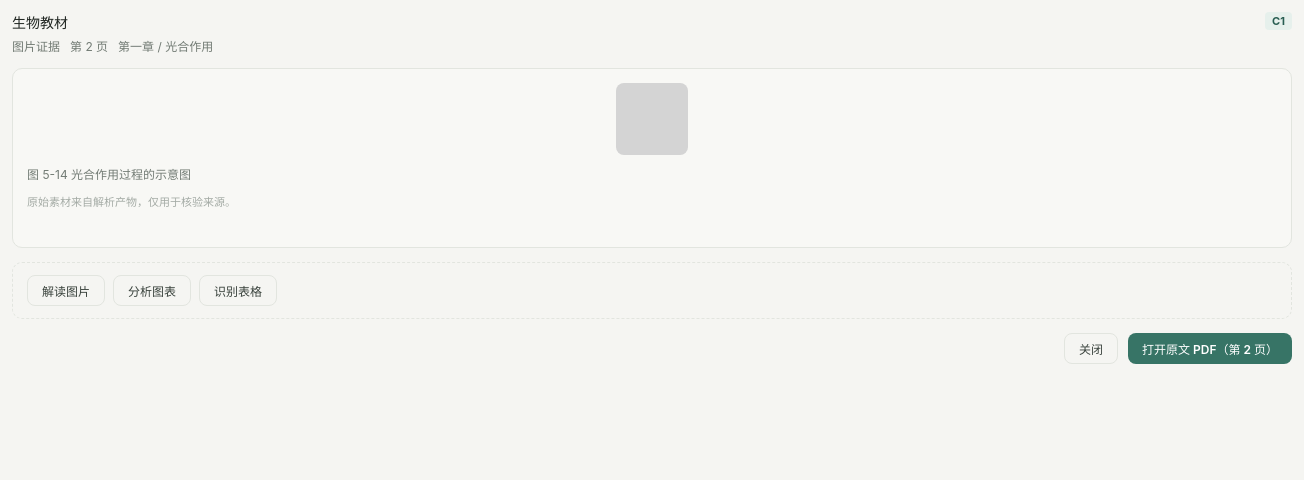
Test: AssetPreviewDialog › runs a describe-image vision task and renders the model answer
Click the button "解读图片" at x=66, y=290, box [27,275,105,306]
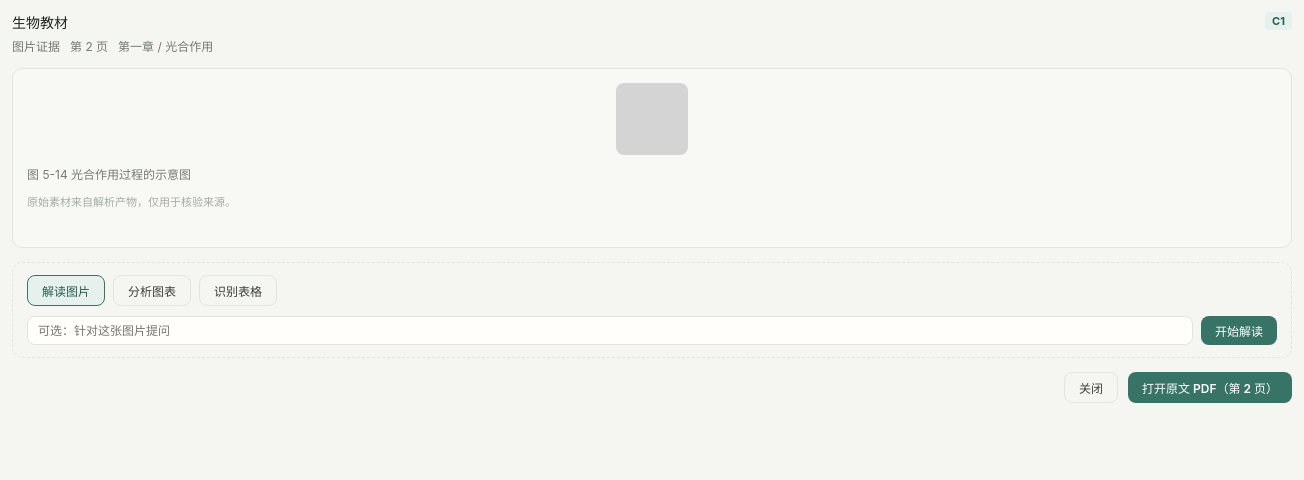
Click the button "开始解读" at x=1239, y=330, box [1201,316,1277,345]
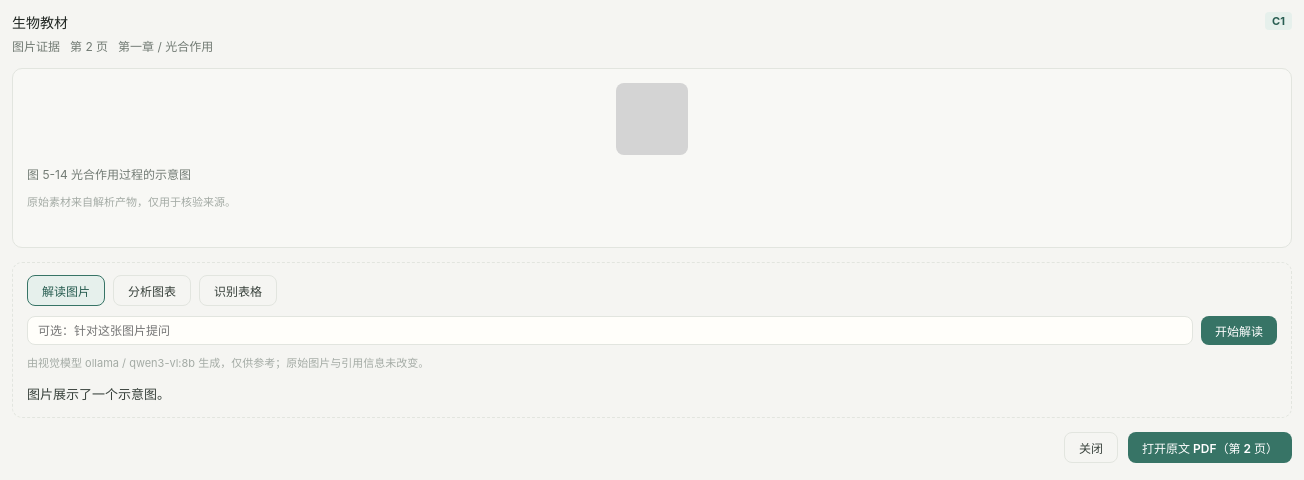
Result: the text "图片展示了一个示意图。" is shown at [27,386,170,402]
Result: the text "qwen3-vl:8b" is shown at [27,356,429,370]
